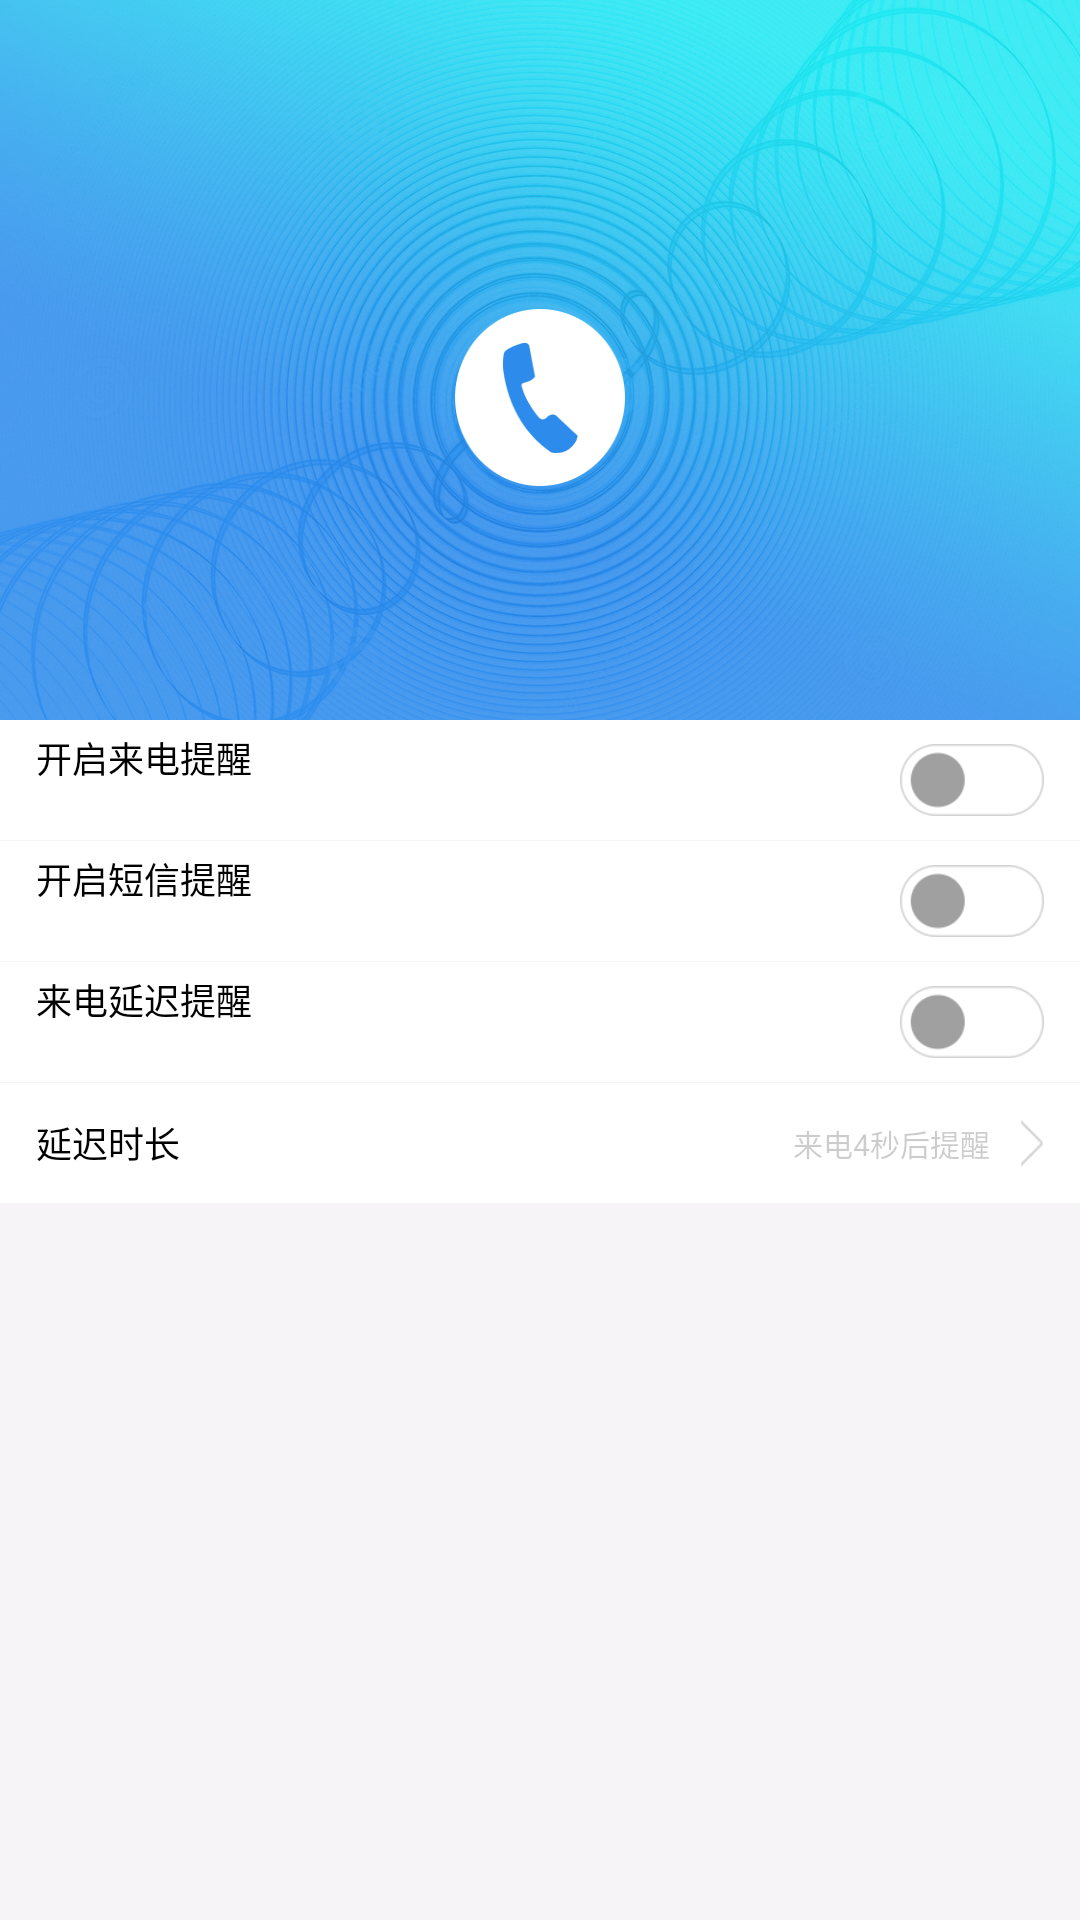

Icons on this 1080×1920 Android screen, each with the point to tap as (x,y):
arrow right: (1032,1143)
